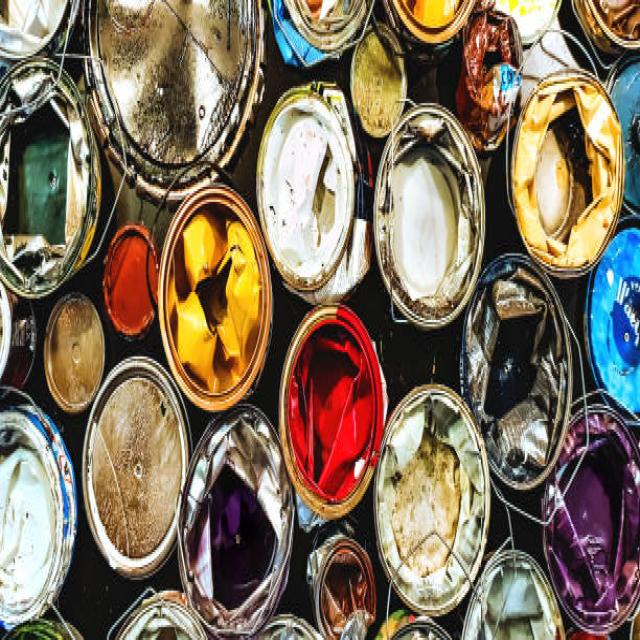metal: (4, 21, 634, 640), (254, 95, 373, 307), (279, 322, 386, 537), (78, 386, 192, 580), (40, 294, 110, 421)
